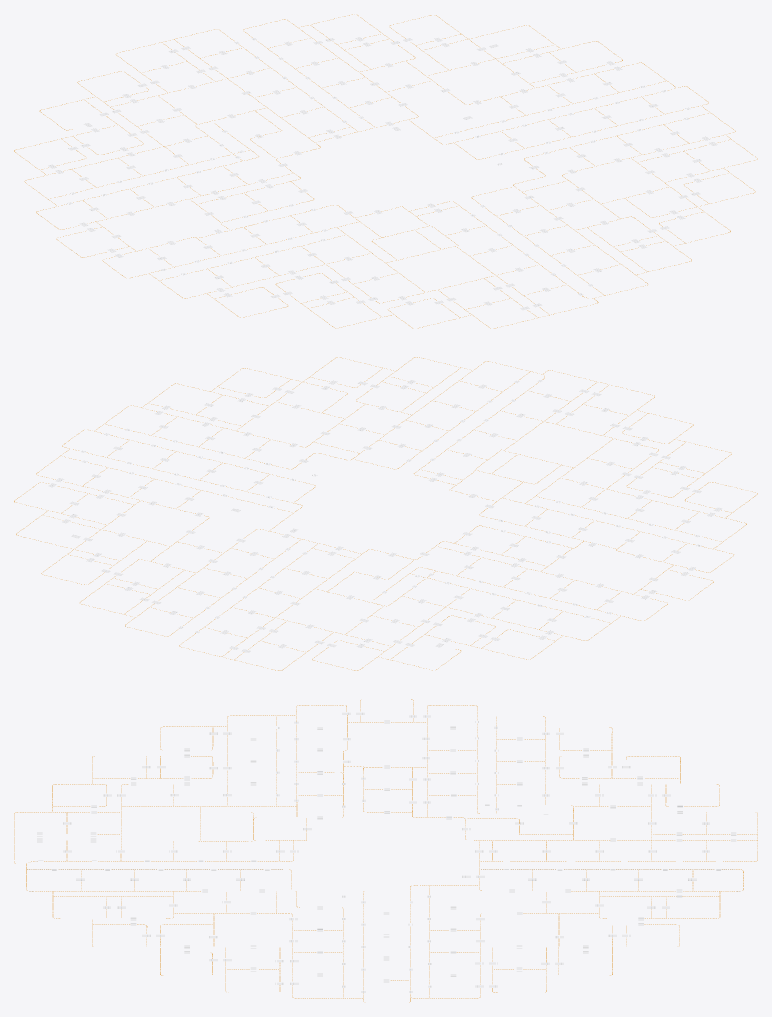
Rendered from D9_Markings.fbx.
3 views of the same model, one above another, from view 1: azimuth 30°, elevation 25°; view 2: azimuth 150°, elevation 25°; view 3: azimuth 270°, elevation 25° (orthographic).
Size of the model in its own units: 231299 by 3.73 by 239622.
